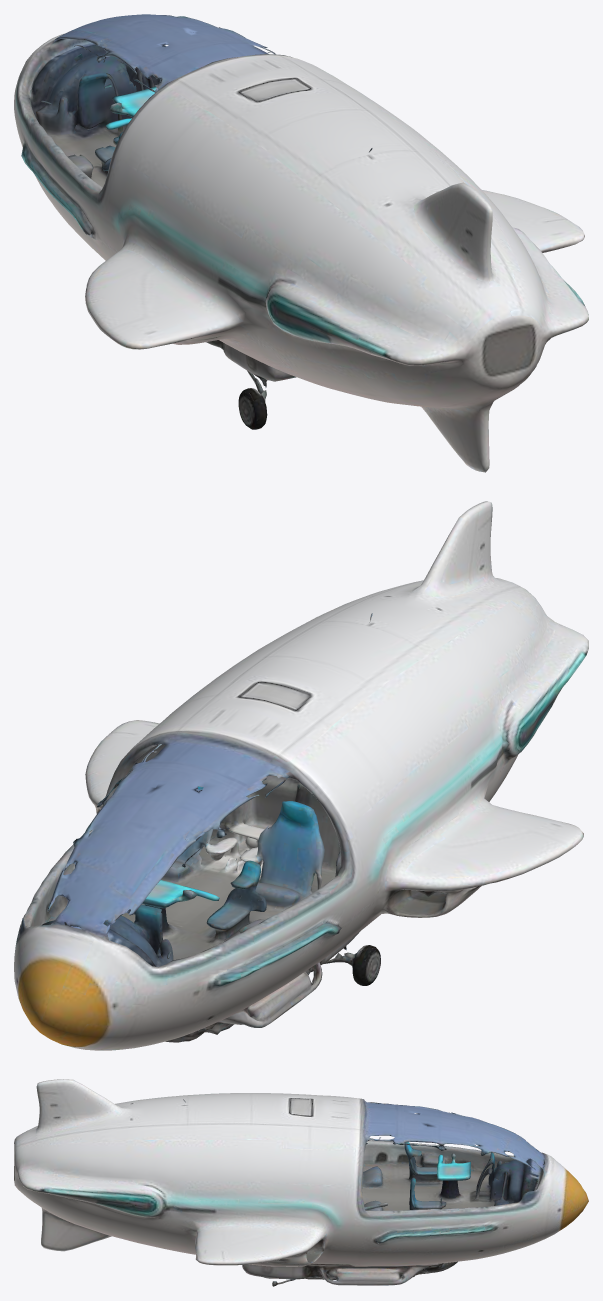
Rendered from zeppelin.glb.
3 renders of one model, top to bottom at view 1: azimuth 30°, elevation 25°; view 2: azimuth 150°, elevation 25°; view 3: azimuth 270°, elevation 25°, orthographic. The views are drawn at different scales.
Parts seen in each view (by area): view 1: tripo_node_8228a7cd-f46e-4a02-8bbc-d124239f724c; view 2: tripo_node_8228a7cd-f46e-4a02-8bbc-d124239f724c; view 3: tripo_node_8228a7cd-f46e-4a02-8bbc-d124239f724c.
Boxes of the visible parts, x1,y1,x2,y2 form: tripo_node_8228a7cd-f46e-4a02-8bbc-d124239f724c: (14,14,588,472); tripo_node_8228a7cd-f46e-4a02-8bbc-d124239f724c: (14,501,588,1050); tripo_node_8228a7cd-f46e-4a02-8bbc-d124239f724c: (14,1079,588,1286).
Size of the model in its own units: 2.81 by 1.99 by 4.9.
Materials: 1 (1 with a texture image).
